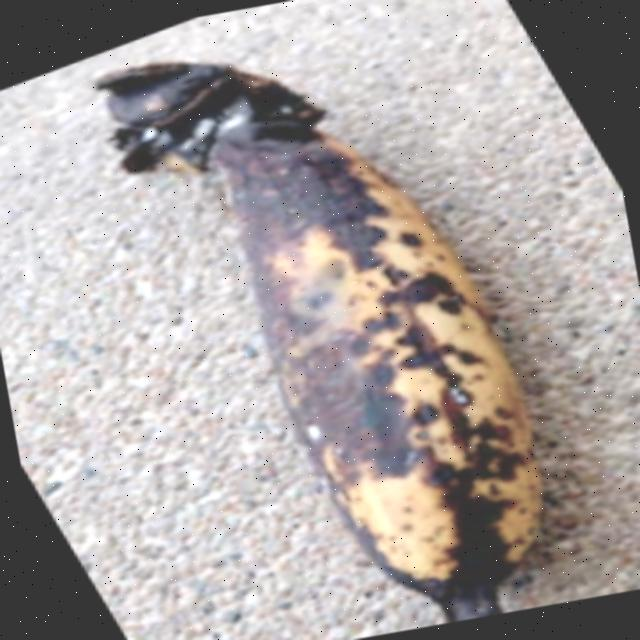Rotten: (71, 0, 600, 640)
